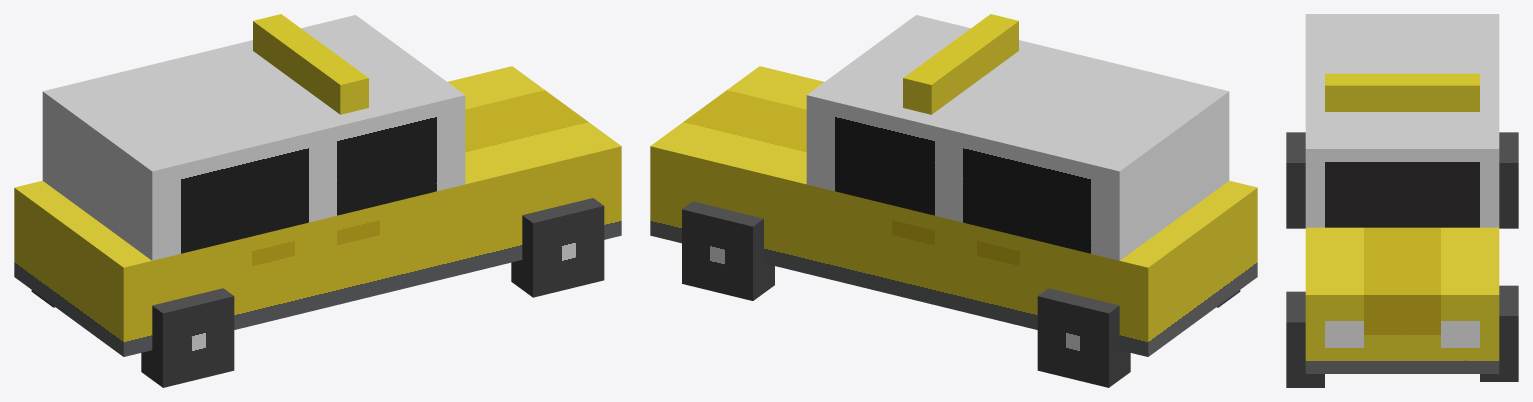
The model's file is car_2.gltf.
3 views of the same model, side by side, from view 1: azimuth 30°, elevation 25°; view 2: azimuth 150°, elevation 25°; view 3: azimuth 270°, elevation 25° (orthographic). The views are drawn at different scales.
Parts seen in each view (by area): view 1: cube; view 2: cube; view 3: cube.
Boxes of the visible parts, box(x1,y1,x2,y2) form: cube: box(14, 14, 621, 387); cube: box(650, 14, 1257, 387); cube: box(1286, 14, 1518, 387).
Bounding box in the file's own units: 2.19 × 1 × 1.
Materials: 1 (1 with a texture image).
